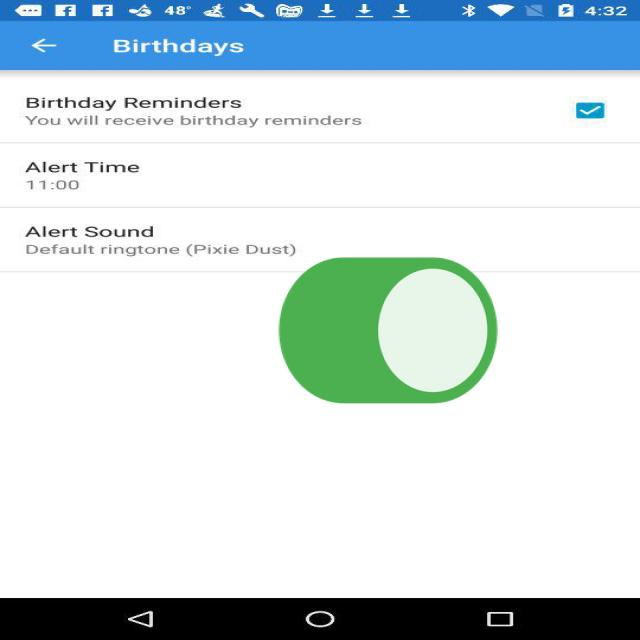social proof: (269, 201, 507, 471)
